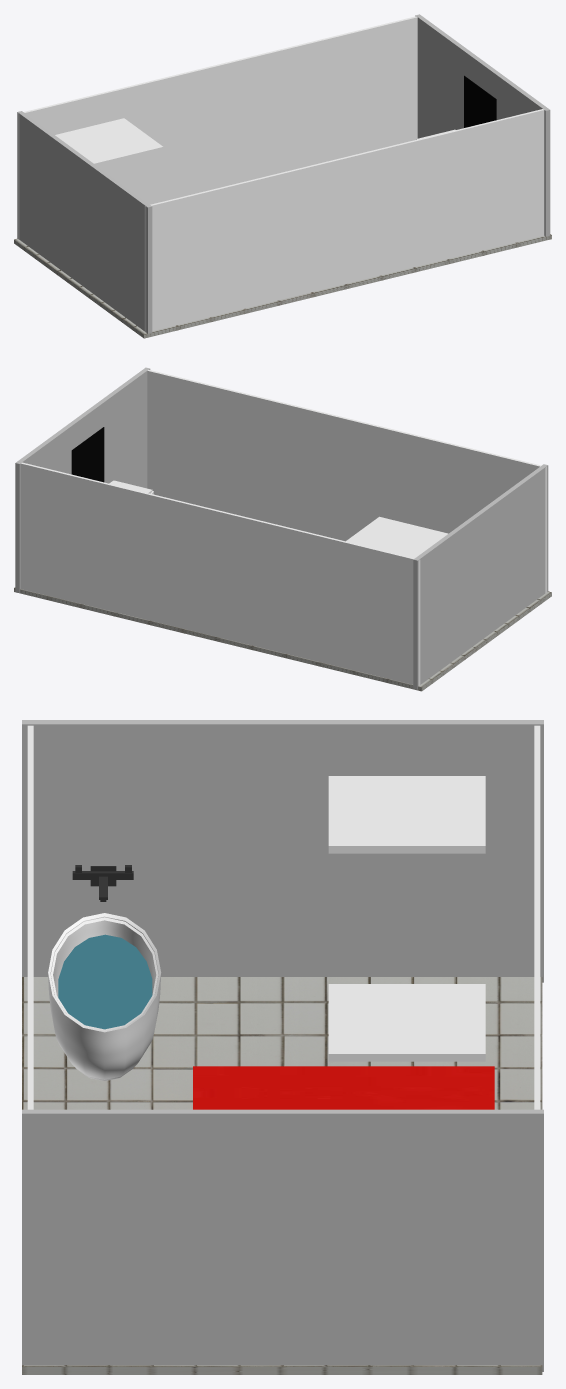
The model's file is bathroom.FBX.
The picture shows the model from 3 angles, top to bottom: view 1: azimuth 30°, elevation 25°; view 2: azimuth 150°, elevation 25°; view 3: azimuth 270°, elevation 25°; orthographic projection. The views are drawn at different scales.
Parts seen in each view (by area): view 1: Box028, Box029, Box002, Box003, Box001, Box011, Box027; view 2: Box029, Box028, Box002, Box003, Box001, Box011, Box027; view 3: Box003, Box002, Box001, Box016, Box010, Box011, Line001, Cylinder001, Box028, Box029.
Part boxes in pixels (left/top/right/bottom): Box028: left=144, top=109, right=544, bottom=332; Box029: left=18, top=16, right=417, bottom=239; Box002: left=17, top=111, right=152, bottom=333; Box003: left=415, top=14, right=550, bottom=236; Box001: left=14, top=234, right=551, bottom=338; Box011: left=55, top=118, right=163, bottom=166; Box027: left=464, top=75, right=496, bottom=127; Box029: left=20, top=462, right=420, bottom=685; Box028: left=147, top=370, right=546, bottom=593; Box002: left=413, top=464, right=548, bottom=689; Box003: left=15, top=367, right=150, bottom=592; Box001: left=14, top=587, right=551, bottom=691; Box011: left=346, top=516, right=448, bottom=558; Box027: left=71, top=427, right=104, bottom=482; Box003: left=22, top=1109, right=543, bottom=1371; Box002: left=22, top=720, right=543, bottom=982; Box001: left=22, top=977, right=542, bottom=1374; Box016: left=193, top=1066, right=494, bottom=1109; Box010: left=328, top=984, right=485, bottom=1061; Box011: left=328, top=776, right=485, bottom=853; Line001: left=48, top=913, right=161, bottom=1081; Cylinder001: left=58, top=934, right=152, bottom=1029; Box028: left=27, top=725, right=33, bottom=1109; Box029: left=534, top=725, right=540, bottom=1109.
Size of the model in its own units: 1296 by 395 by 718.
